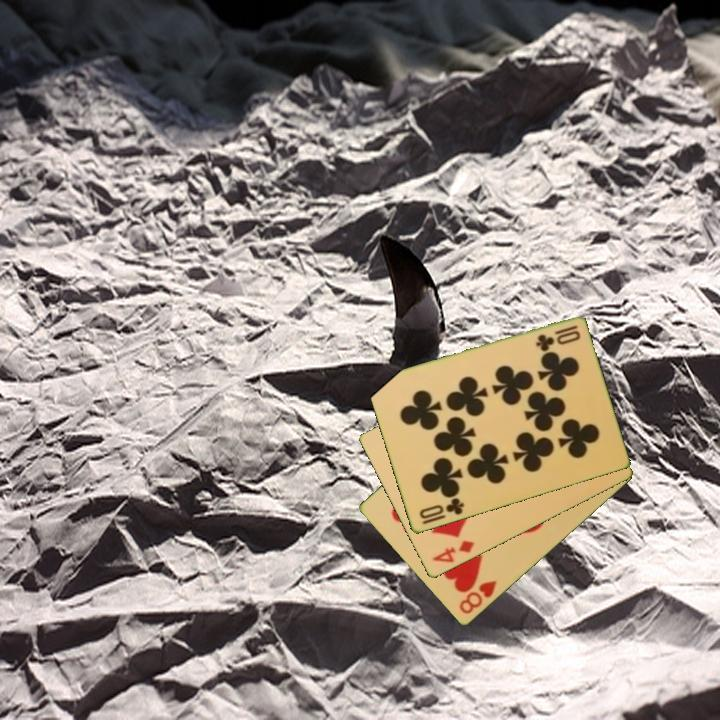10c: (416, 494, 467, 528), (532, 322, 583, 353)
4d: (428, 537, 477, 566)
8h: (456, 577, 500, 617)
